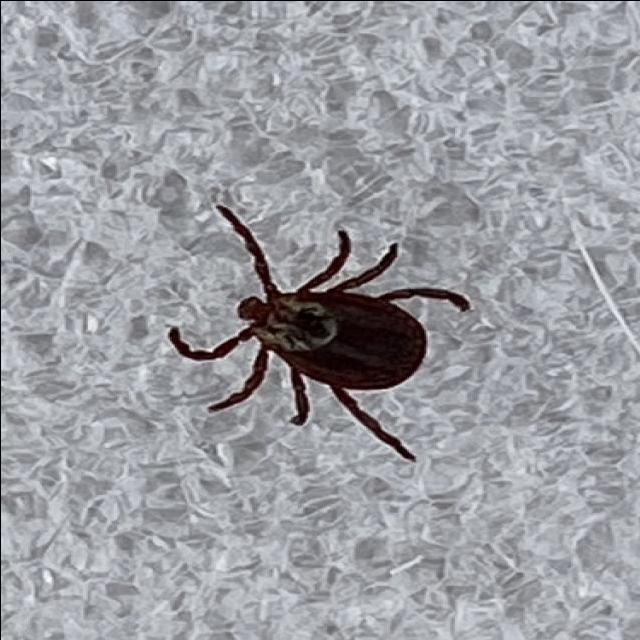Dermacentor Reticulatus-F: (166, 201, 469, 458)
